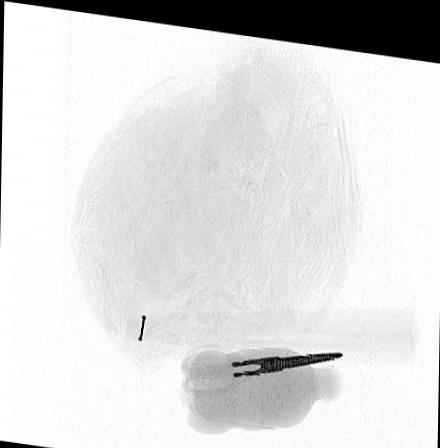Scissors: (176, 336, 344, 395)
